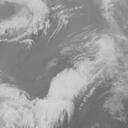cyclone: (52, 35, 110, 92)
